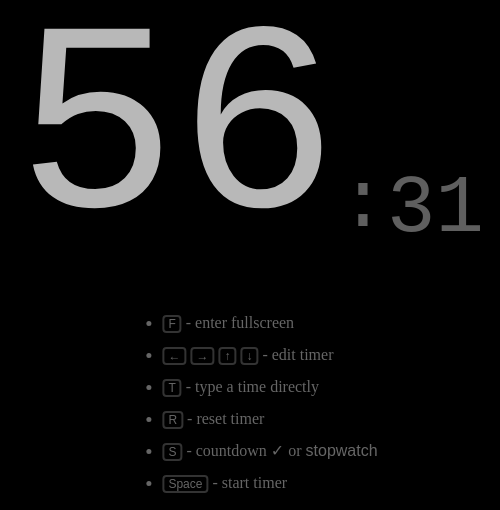
shows the exact countdown second again when paused
Click the button "Space" at (185, 484), box [162,475,208,493]
Wait 500 ms
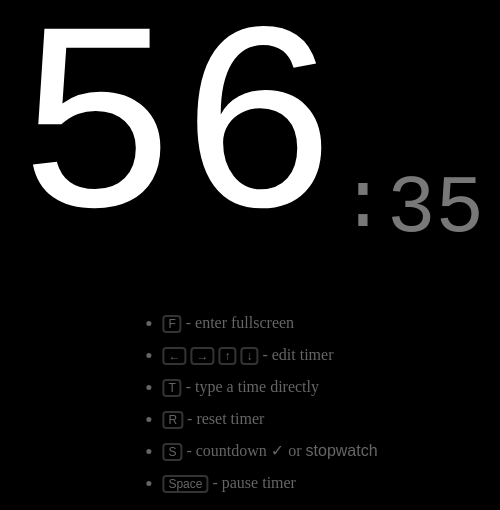
Check: the element with class "clock" reads "56 : 35", box [16,17,484,253]
Click the button "Space" at (185, 484), box [162,475,208,493]
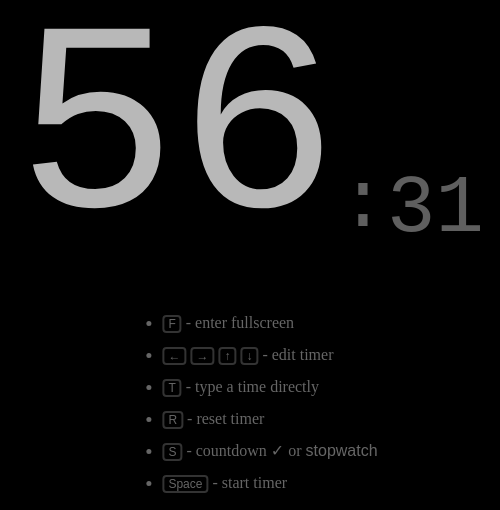
Check: the element with class "clock" reads "56 : 31", box [16,17,484,253]
